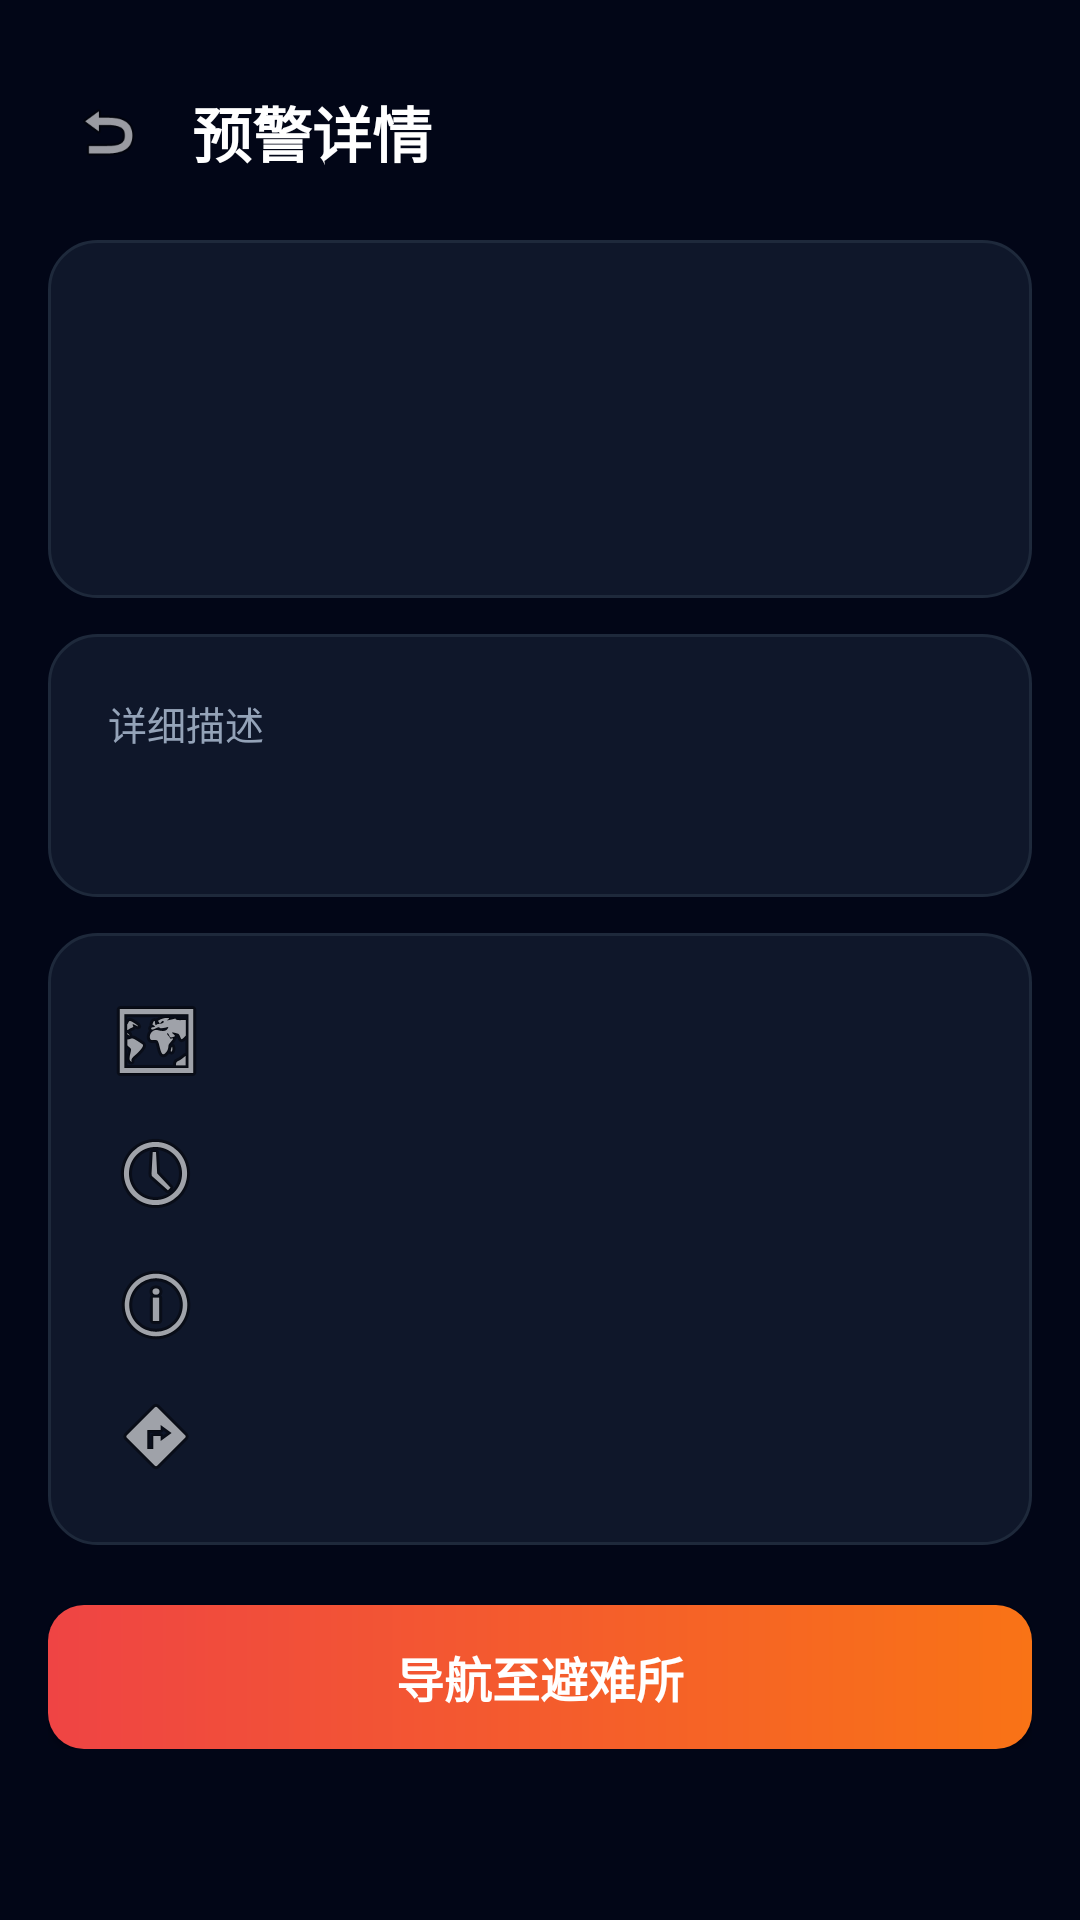

Icons on this 1080px×1920px Android screen, each with its box as [x1, y1, x2, y2]:
Back: [85, 111, 133, 154]
